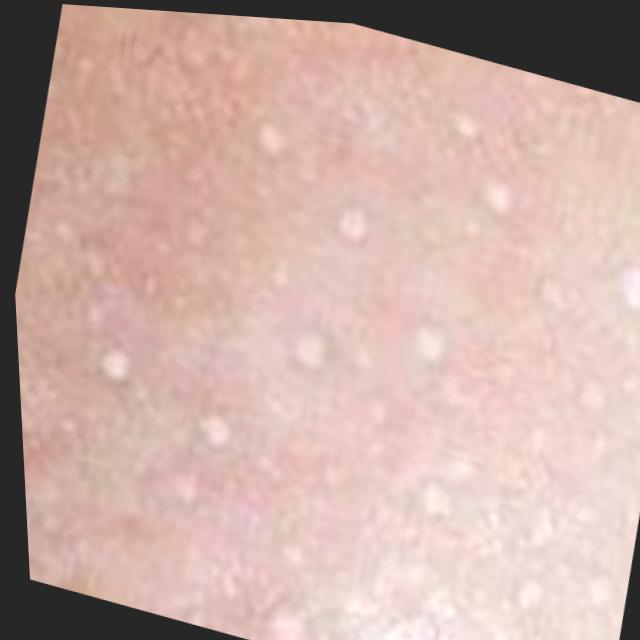whitehead: (18, 65, 640, 640)
